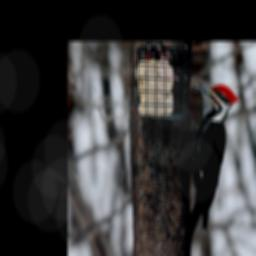Woodpecker: (168, 81, 238, 255)
